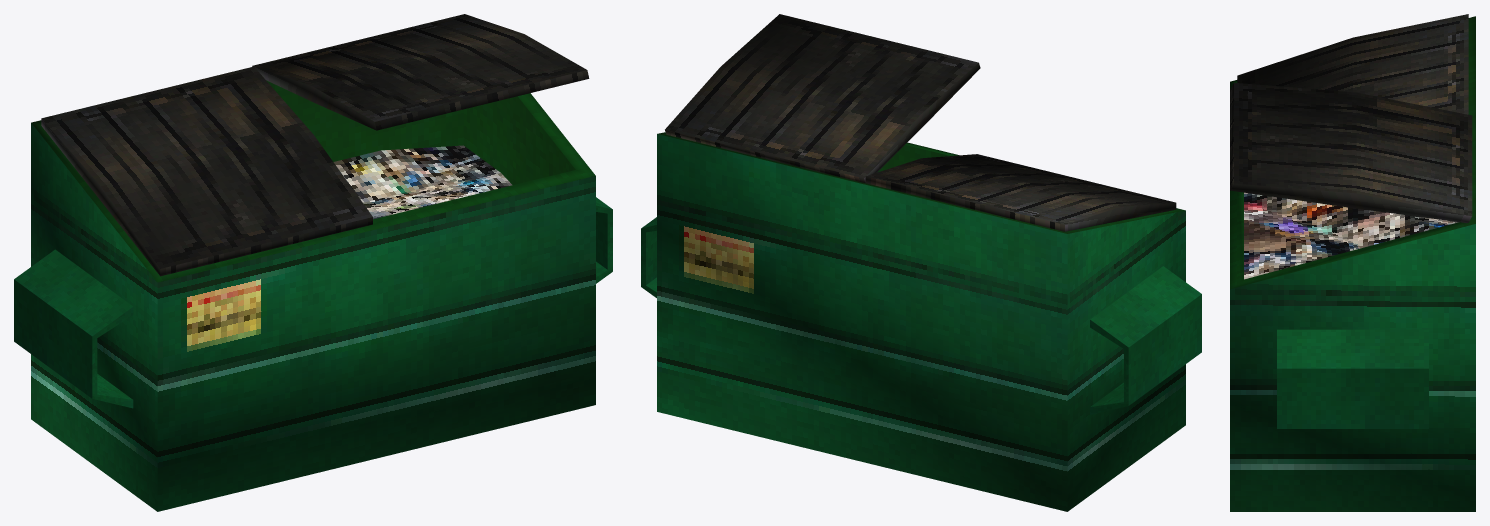
Rendered from dumpster.glb.
3 renders of one model, left to right at view 1: azimuth 30°, elevation 25°; view 2: azimuth 150°, elevation 25°; view 3: azimuth 270°, elevation 25°, orthographic. The views are drawn at different scales.
Visible parts, largest first — view 1: Dumpster, DumpsterLid1_M_Industrial2_0, DumpsterLid2_M_Industrial2_0, DumpsterTrash_M_Industrial_0; view 2: Dumpster, DumpsterLid2_M_Industrial2_0, DumpsterLid1_M_Industrial2_0; view 3: Dumpster, DumpsterLid2_M_Industrial2_0, DumpsterLid1_M_Industrial2_0, DumpsterTrash_M_Industrial_0.
Part boxes in pixels (x1,y1,x2,y2): Dumpster: (14, 80, 612, 511); DumpsterLid1_M_Industrial2_0: (41, 66, 372, 276); DumpsterLid2_M_Industrial2_0: (252, 14, 589, 130); DumpsterTrash_M_Industrial_0: (333, 145, 512, 219); Dumpster: (641, 132, 1201, 511); DumpsterLid2_M_Industrial2_0: (665, 14, 980, 183); DumpsterLid1_M_Industrial2_0: (865, 154, 1176, 231); Dumpster: (1230, 16, 1475, 511); DumpsterLid2_M_Industrial2_0: (1230, 82, 1472, 222); DumpsterLid1_M_Industrial2_0: (1237, 14, 1468, 114); DumpsterTrash_M_Industrial_0: (1244, 192, 1458, 279).
Bounding box in the file's own units: 1.94 × 1.2 × 0.8177.
2 materials, 2 textured.
